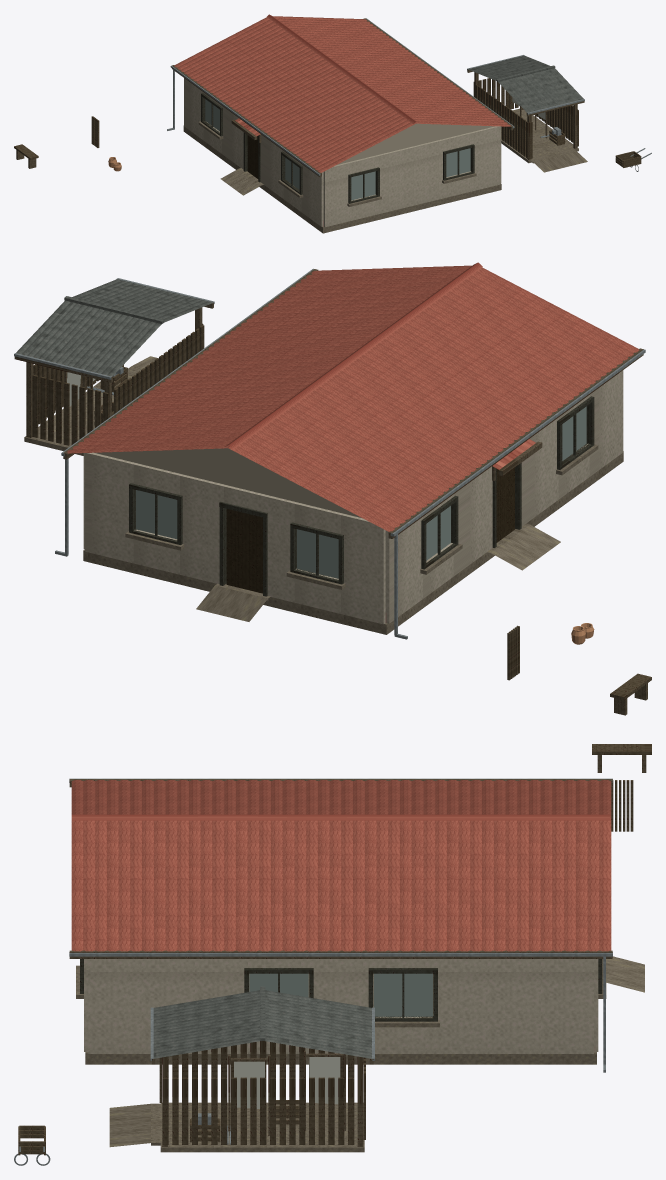
3 renders of one model, top to bottom at view 1: azimuth 30°, elevation 25°; view 2: azimuth 150°, elevation 25°; view 3: azimuth 270°, elevation 25°, orthographic. The views are drawn at different scales.
Visible parts, largest first — view 1: H34_TELHAS, H34_LATERAIS, H34_FACHADA, H34_DEPOSITO_COBERTURA, H34_DEPOSITO_RIPAS, H34_FUNDACAO, H34_OITOES, H34_VIDROS_RECUADOS, H34_CAIXILHOS, H34_DEPOSITO_BASE, H34_BEIRAIS, H34_CUMEEIRA (+6 smaller); view 2: H34_TELHAS, H34_LATERAIS, H34_FACHADA, H34_DEPOSITO_COBERTURA, H34_DEPOSITO_RIPAS, H34_OITOES, H34_VIDROS_RECUADOS, H34_FUNDACAO, H34_CAIXILHOS, H34_SERVICO_PORTA_FOLHA, H34_CUMEEIRA, H34_BEIRAIS (+10 smaller); view 3: H34_TELHAS, H34_FUNDOS, H34_DEPOSITO_RIPAS, H34_DEPOSITO_COBERTURA, H34_DEPOSITO_BASE, H34_FUNDACAO, H34_CUMEEIRA, H34_VIDROS_RECUADOS, H34_BEIRAIS, H34_CALHA, H34_CAIXILHOS, H34_DEPOSITO_RAMPA (+9 smaller).
Boxes of the visible parts, x1,y1,x2,y2 form: H34_TELHAS: (174, 16, 510, 172); H34_LATERAIS: (323, 126, 500, 227); H34_FACHADA: (184, 78, 323, 226); H34_DEPOSITO_COBERTURA: (468, 55, 583, 112); H34_DEPOSITO_RIPAS: (473, 78, 578, 158); H34_FUNDACAO: (183, 125, 501, 233); H34_OITOES: (337, 123, 494, 164); H34_VIDROS_RECUADOS: (205, 99, 470, 200); H34_CAIXILHOS: (201, 93, 474, 203); H34_DEPOSITO_BASE: (501, 108, 578, 163); H34_BEIRAIS: (172, 18, 513, 176); H34_CUMEEIRA: (267, 14, 417, 124); H34_TELHAS: (67, 265, 639, 531); H34_LATERAIS: (85, 452, 385, 624); H34_FACHADA: (385, 370, 623, 623); H34_DEPOSITO_COBERTURA: (16, 279, 212, 376); H34_DEPOSITO_RIPAS: (32, 323, 204, 445); H34_OITOES: (94, 448, 361, 517); H34_VIDROS_RECUADOS: (136, 406, 586, 578); H34_FUNDACAO: (83, 451, 623, 634); H34_CAIXILHOS: (129, 396, 594, 584); H34_SERVICO_PORTA_FOLHA: (226, 509, 262, 593); H34_CUMEEIRA: (225, 262, 482, 449); H34_BEIRAIS: (63, 269, 643, 538); H34_TELHAS: (71, 780, 611, 951); H34_FUNDOS: (88, 959, 593, 1053); H34_DEPOSITO_RIPAS: (159, 1041, 365, 1144); H34_DEPOSITO_COBERTURA: (153, 990, 371, 1058); H34_DEPOSITO_BASE: (160, 1102, 364, 1152); H34_FUNDACAO: (85, 973, 596, 1064); H34_CUMEEIRA: (71, 814, 610, 820); H34_VIDROS_RECUADOS: (249, 973, 432, 1016); H34_BEIRAIS: (69, 779, 612, 958); H34_CALHA: (69, 778, 612, 956); H34_CAIXILHOS: (80, 959, 602, 1021); H34_DEPOSITO_RAMPA: (109, 1103, 150, 1147).
Bounding box in the file's own units: 22.25 × 4.23 × 14.38.
13 materials, 9 textured.
